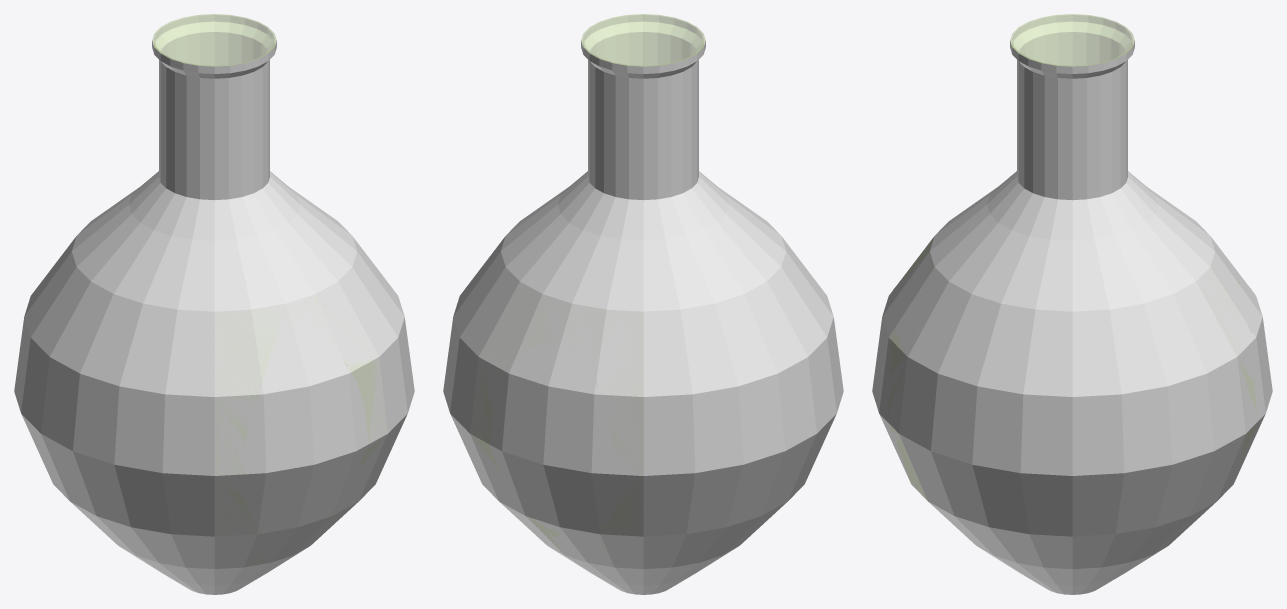
File: Pear-shaped flask.glb
3 views of the same model, side by side, from view 1: azimuth 30°, elevation 25°; view 2: azimuth 150°, elevation 25°; view 3: azimuth 270°, elevation 25° (orthographic).
Parts seen in each view (by area): view 1: Cirkel, Cirkel.001; view 2: Cirkel, Cirkel.001; view 3: Cirkel, Cirkel.001.
Boxes of the visible parts, left/top/right/bottom form: Cirkel: left=14, top=40, right=414, bottom=594; Cirkel.001: left=152, top=14, right=385, bottom=564; Cirkel: left=443, top=40, right=843, bottom=594; Cirkel.001: left=472, top=14, right=705, bottom=555; Cirkel: left=872, top=40, right=1272, bottom=594; Cirkel.001: left=887, top=14, right=1257, bottom=499.
Size of the model in its own units: 1.94 by 2.9 by 1.94.
Materials: 1 (1 with a texture image).
